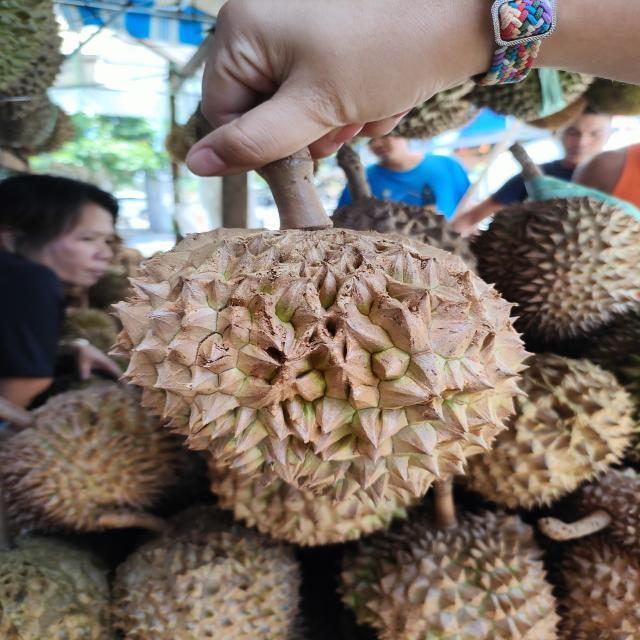mature: (104, 223, 538, 555), (433, 345, 640, 519), (459, 190, 640, 345), (0, 393, 192, 525)
